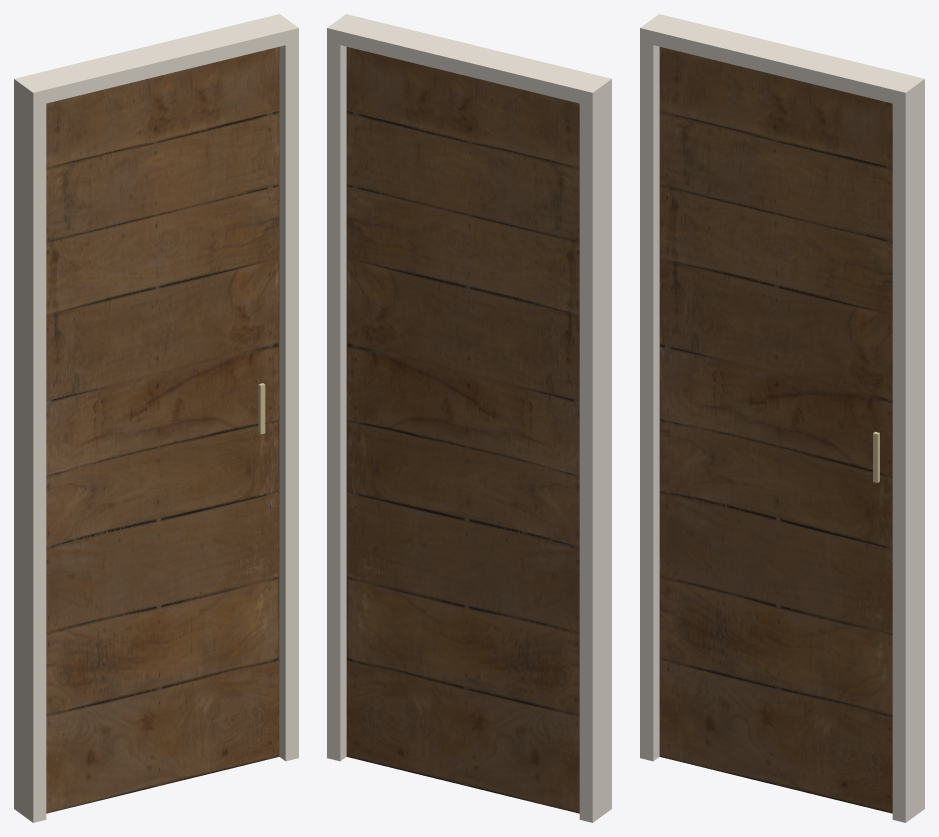
The model's file is porta_80.glb.
3 renders of one model, left to right at view 1: azimuth 30°, elevation 25°; view 2: azimuth 150°, elevation 25°; view 3: azimuth 330°, elevation 25°, orthographic.
Parts seen in each view (by area): view 1: porta_80; view 2: porta_80; view 3: porta_80.
Boxes of the visible parts, x1=… form: porta_80: x1=14, y1=14, x2=298, y2=822; porta_80: x1=327, y1=14, x2=611, y2=822; porta_80: x1=640, y1=14, x2=924, y2=822.
Size of the model in its own units: 0.8 by 2.1 by 0.1.
3 materials, 1 textured.
